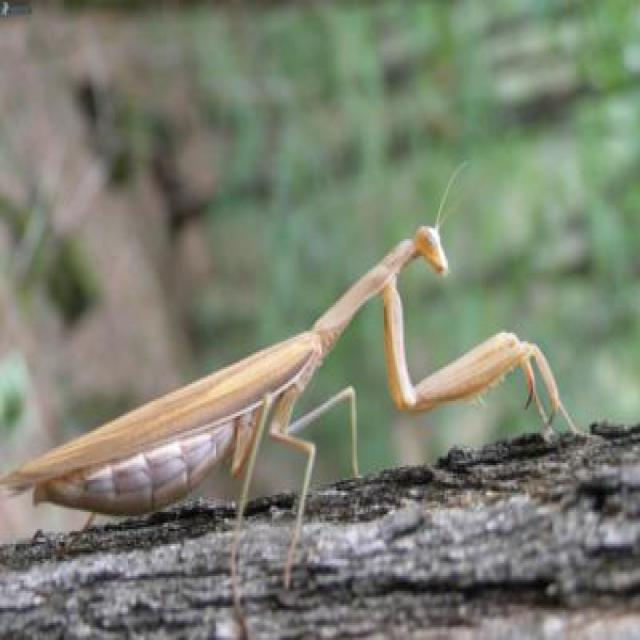antennae: (438, 162, 466, 228), (442, 180, 481, 227)
body: (36, 225, 446, 512)
insect: (0, 160, 578, 600)
legs: (393, 296, 567, 424), (382, 287, 538, 408), (224, 399, 273, 604), (270, 380, 316, 590), (278, 387, 366, 478)
mouthpart: (432, 258, 451, 276)
wings: (0, 336, 319, 488)
